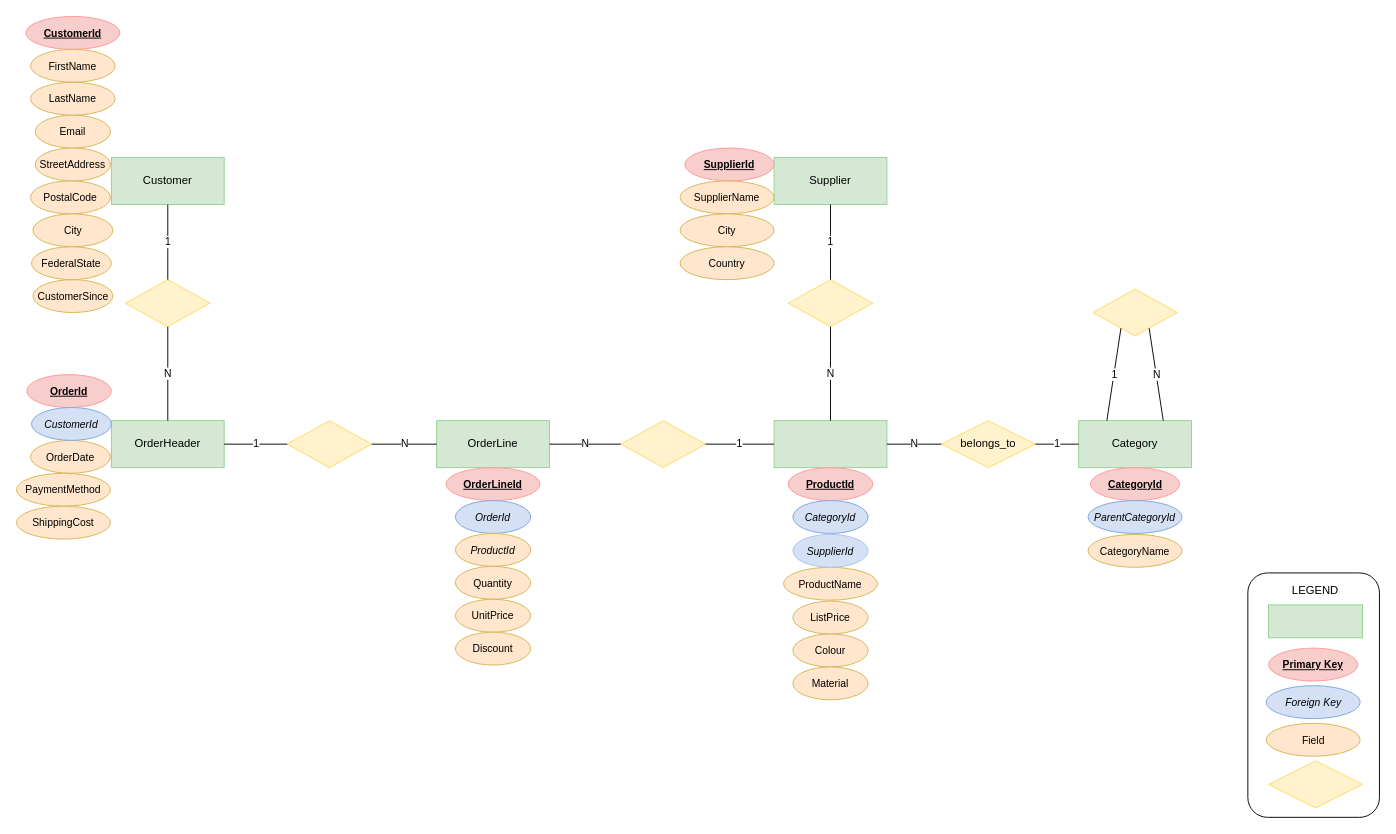
Image size: 1396x834. Some labels were removed from this diagram. The box of each missing label's shape, as (x1, y1, x2, y2) in pixels:
contains: (286, 420, 372, 468)
Entity: (1268, 604, 1363, 638)
ordered_in: (620, 420, 705, 468)
parent_of: (1092, 288, 1177, 336)
places: (125, 279, 210, 327)
Product: (773, 420, 887, 468)
Relation: (1268, 760, 1363, 808)
supplies: (787, 279, 873, 327)
